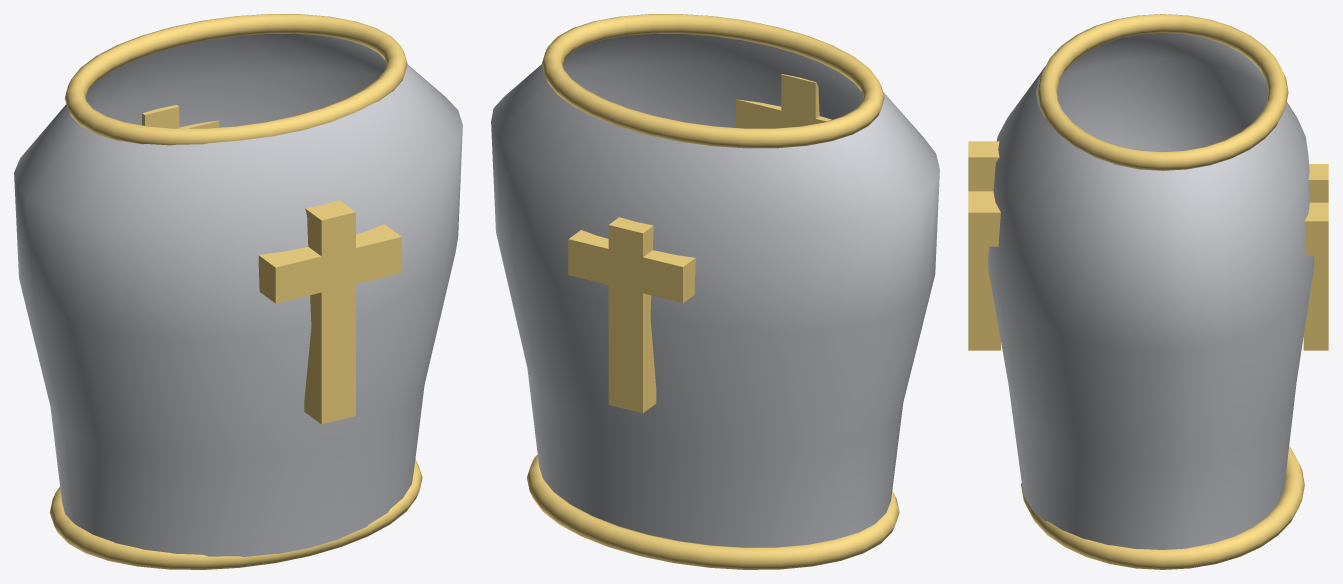
File: SM_Paladin_Chest.glb
3 views of the same model, side by side, from view 1: azimuth 30°, elevation 25°; view 2: azimuth 150°, elevation 25°; view 3: azimuth 270°, elevation 25° (orthographic). The views are drawn at different scales.
Visible parts, largest first — view 1: SM_Paladin_Chest; view 2: SM_Paladin_Chest; view 3: SM_Paladin_Chest.
Boxes of the visible parts, bbox=[...] form: SM_Paladin_Chest: bbox=[14, 14, 462, 569]; SM_Paladin_Chest: bbox=[491, 14, 939, 569]; SM_Paladin_Chest: bbox=[968, 14, 1328, 569].
Bounding box in the file's own units: 0.364 × 0.362 × 0.287.
